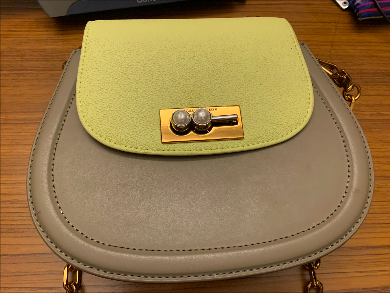Nonfood: (53, 28, 331, 177)
